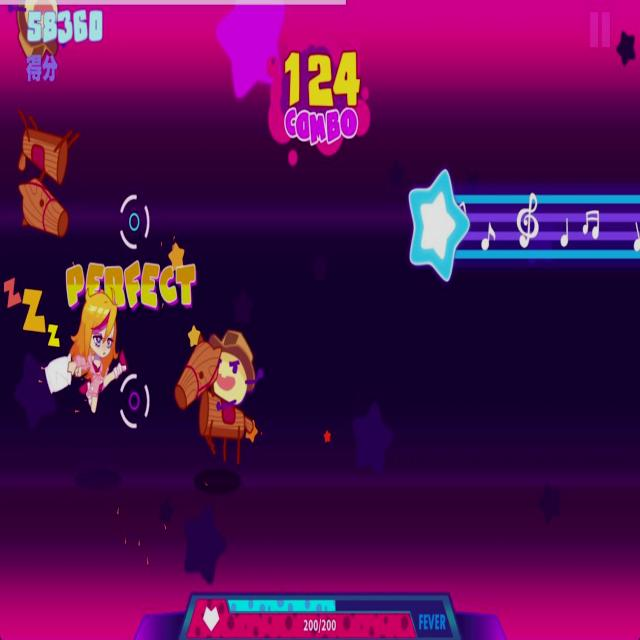hold: (403, 162, 640, 286)
qiu: (172, 321, 266, 472)
